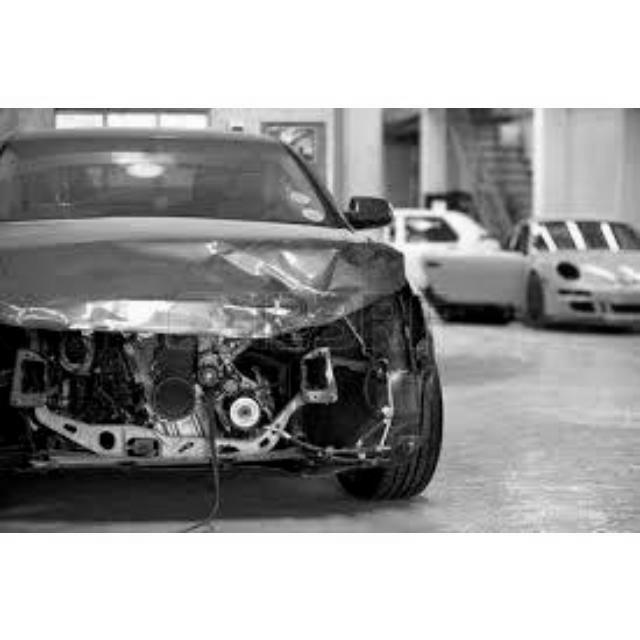bonnet-dent: (5, 219, 370, 326)
